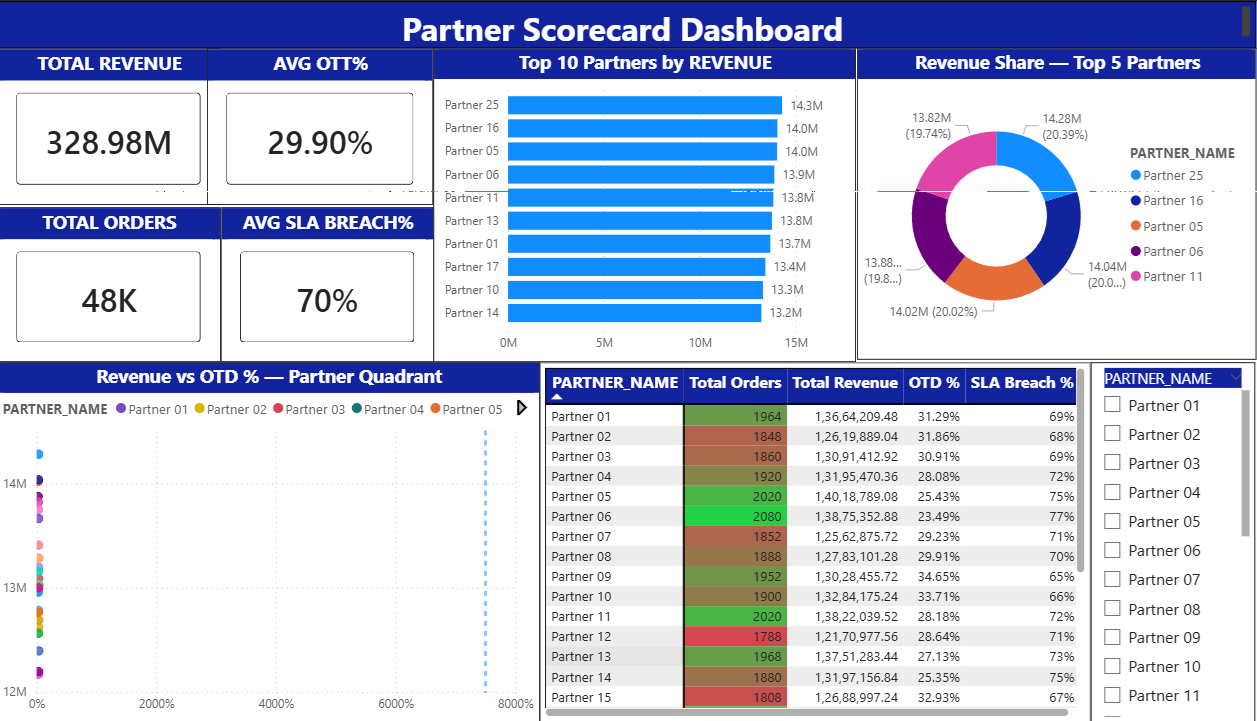

This screenshot's page, from the dashboard's own definition file:
{"tool":"powerbi","page":{"name":"Partner Scorecard","canvas":[1280,720],"ordinal":1},"visuals":[{"type":"barChart","title":"Top 10 Partners by REVENUE","fields":{"Category":["DIM_PARTNERS (2).PARTNER_NAME"],"Y":["FACT_ORDERS.Total Revenue"]},"box":[435.7,47.1,421.4,312.9],"z":0},{"type":"pivotTable","title":"Partner Revenue Bar Chart","fields":{"Rows":["DIM_PARTNERS (2).PARTNER_NAME"],"Values":["FACT_ORDERS.Total Orders","FACT_ORDERS.Total Revenue","FACT_SHIPMENTS.OTD %","FACT_SHIPMENTS.SLA Breach %"]},"box":[541.4,360,550,360],"z":1000},{"type":"scatterChart","title":"Revenue vs OTD % — Partner Quadrant","fields":{"X":["FACT_SHIPMENTS.OTD %"],"Y":["FACT_ORDERS.Total Revenue"],"Series":["DIM_PARTNERS (2).PARTNER_NAME"]},"box":[0,360,541.4,360],"z":2000},{"type":"cardVisual","title":"TOTAL REVENUE","fields":{"Data":["FACT_ORDERS.Total Revenue"]},"box":[0,47.1,222.9,155.7],"z":3000},{"type":"cardVisual","title":"TOTAL ORDERS","fields":{"Data":["FACT_ORDERS.Total Orders"]},"box":[0,205.7,222.9,154.3],"z":4000},{"type":"cardVisual","title":"AVG OTT%","fields":{"Data":["FACT_SHIPMENTS.OTD %"]},"box":[210,47.1,225.7,155.7],"z":5000},{"type":"cardVisual","title":"AVG SLA BREACH%","fields":{"Data":["FACT_SHIPMENTS.SLA Breach %"]},"box":[222.9,205.7,212.9,154.3],"z":6000},{"type":"donutChart","title":"Revenue Share — Top 5 Partners","fields":{"Category":["DIM_PARTNERS (2).PARTNER_NAME"],"Y":["FACT_ORDERS.Total Revenue"]},"box":[857.1,47.1,398.6,310],"z":7000},{"type":"slicer","title":"Partners","fields":{"Values":["DIM_PARTNERS (2).PARTNER_NAME"]},"box":[1091.4,360,164.3,360],"z":8000},{"type":"textbox","box":[0,0,1255.7,47.1],"z":9000}]}

Visuals, with their boxes in screenshot pixels (x1, y1, x2, y2), scaled from the page's 1280x720 canvas onto the 1257x721 screenshot:
"Top 10 Partners by REVENUE" barChart: [428, 47, 842, 360]
"Partner Revenue Bar Chart" pivotTable: [532, 360, 1072, 720]
"Revenue vs OTD % — Partner Quadrant" scatterChart: [0, 360, 532, 720]
"TOTAL REVENUE" cardVisual: [0, 47, 219, 203]
"TOTAL ORDERS" cardVisual: [0, 206, 219, 360]
"AVG OTT%" cardVisual: [206, 47, 428, 203]
"AVG SLA BREACH%" cardVisual: [219, 206, 428, 360]
"Revenue Share — Top 5 Partners" donutChart: [842, 47, 1233, 358]
"Partners" slicer: [1072, 360, 1233, 720]
textbox: [0, 0, 1233, 47]
